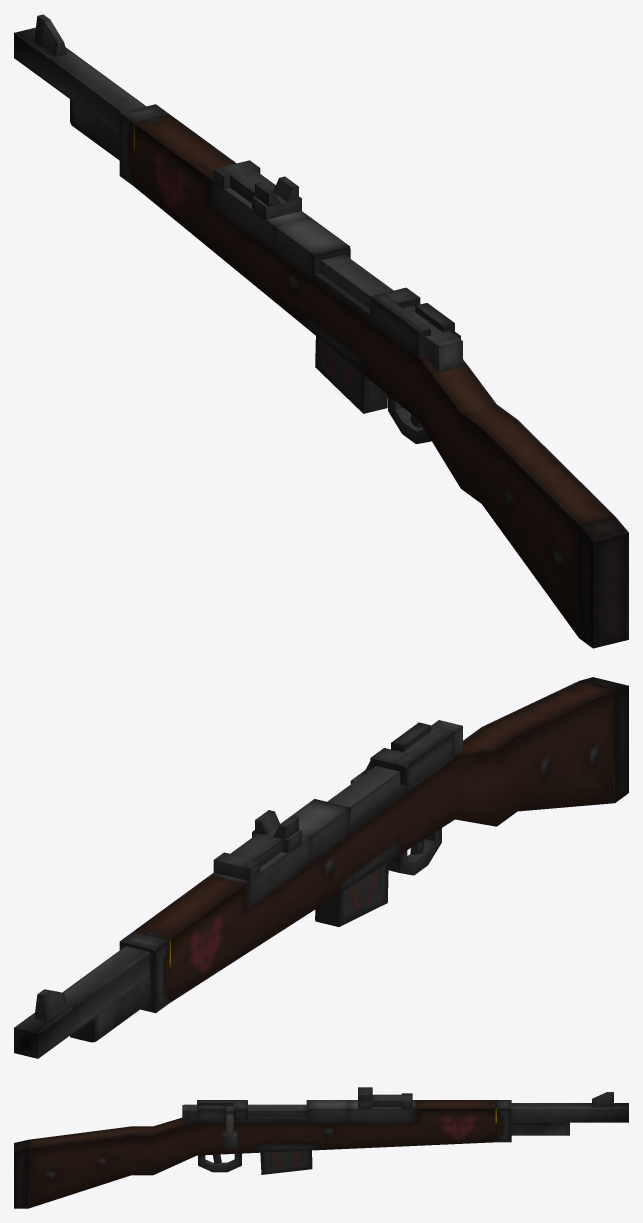
The model's file is rifle.obj.
The picture shows the model from 3 angles, top to bottom: view 1: azimuth 30°, elevation 25°; view 2: azimuth 150°, elevation 25°; view 3: azimuth 270°, elevation 25°; orthographic projection. The views are drawn at different scales.
Visible parts, largest first — view 1: rifle, bolt_action, bolt, magazine, sights_mount, sights; view 2: rifle, bolt_action, bolt, magazine, sights_mount, sights; view 3: rifle, bolt, bolt_action, magazine, sights_mount, sights.
Part boxes in pixels (left/top/right/bottom): rifle: left=14, top=27, right=628, bottom=648; bolt_action: left=314, top=273, right=454, bottom=356; bolt: left=313, top=254, right=462, bottom=371; magazine: left=315, top=336, right=387, bottom=413; sights_mount: left=213, top=160, right=301, bottom=219; sights: left=34, top=14, right=298, bottom=206; rifle: left=14, top=677, right=628, bottom=1058; bolt_action: left=350, top=722, right=454, bottom=832; bolt: left=327, top=720, right=462, bottom=820; magazine: left=315, top=862, right=388, bottom=926; sights_mount: left=213, top=828, right=301, bottom=881; sights: left=34, top=810, right=298, bottom=1021; rifle: left=14, top=1100, right=628, bottom=1208; bolt: left=182, top=1104, right=308, bottom=1149; bolt_action: left=197, top=1100, right=306, bottom=1122; magazine: left=260, top=1150, right=312, bottom=1174; sights_mount: left=358, top=1093, right=412, bottom=1108; sights: left=358, top=1087, right=613, bottom=1107.
Size of the model in its own units: 0.3438 by 1.06 by 5.25.
